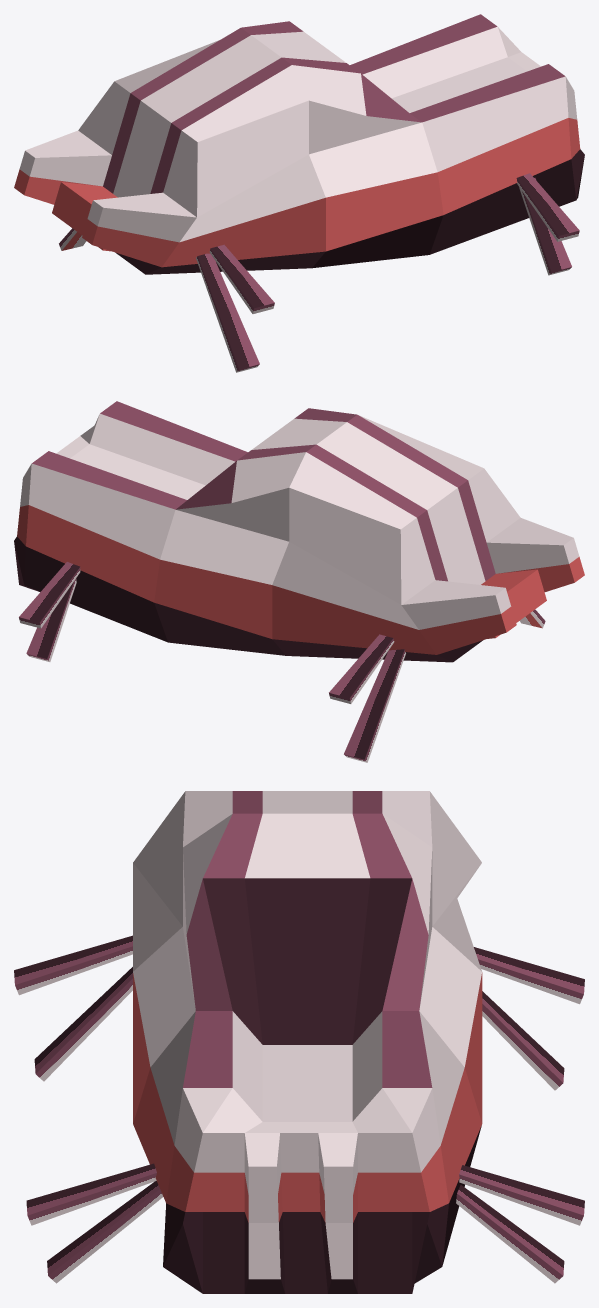
The model's file is car_noroues.glb.
3 renders of one model, top to bottom at view 1: azimuth 30°, elevation 25°; view 2: azimuth 150°, elevation 25°; view 3: azimuth 270°, elevation 25°, orthographic. The views are drawn at different scales.
Visible parts, largest first — view 1: voiture_sans_roue; view 2: voiture_sans_roue; view 3: voiture_sans_roue.
Boxes of the visible parts, x1,y1,x2,y2 form: voiture_sans_roue: (14, 14, 584, 372); voiture_sans_roue: (14, 401, 584, 762); voiture_sans_roue: (14, 791, 584, 1293).
Bounding box in the file's own units: 6.84 × 3.08 × 4.58.
Materials: 1 (1 with a texture image).
